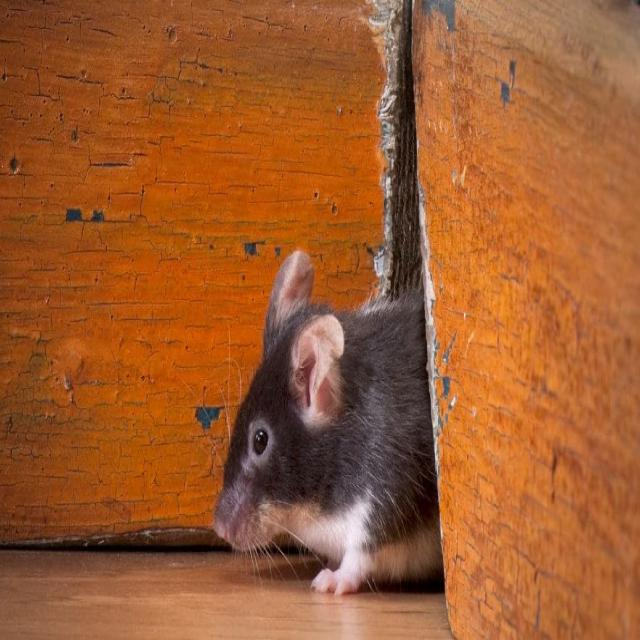rat: (202, 242, 447, 614)
